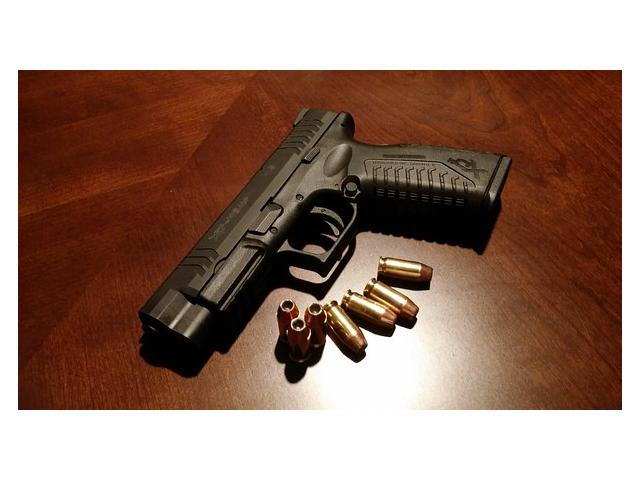pistol: (133, 106, 518, 363)
